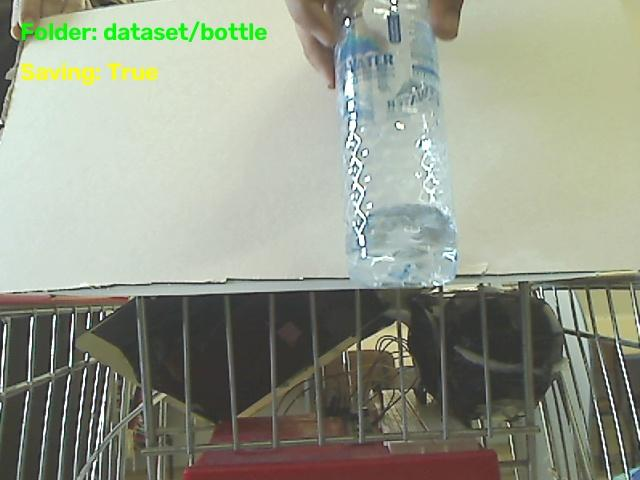Bottle: (334, 0, 456, 287)
